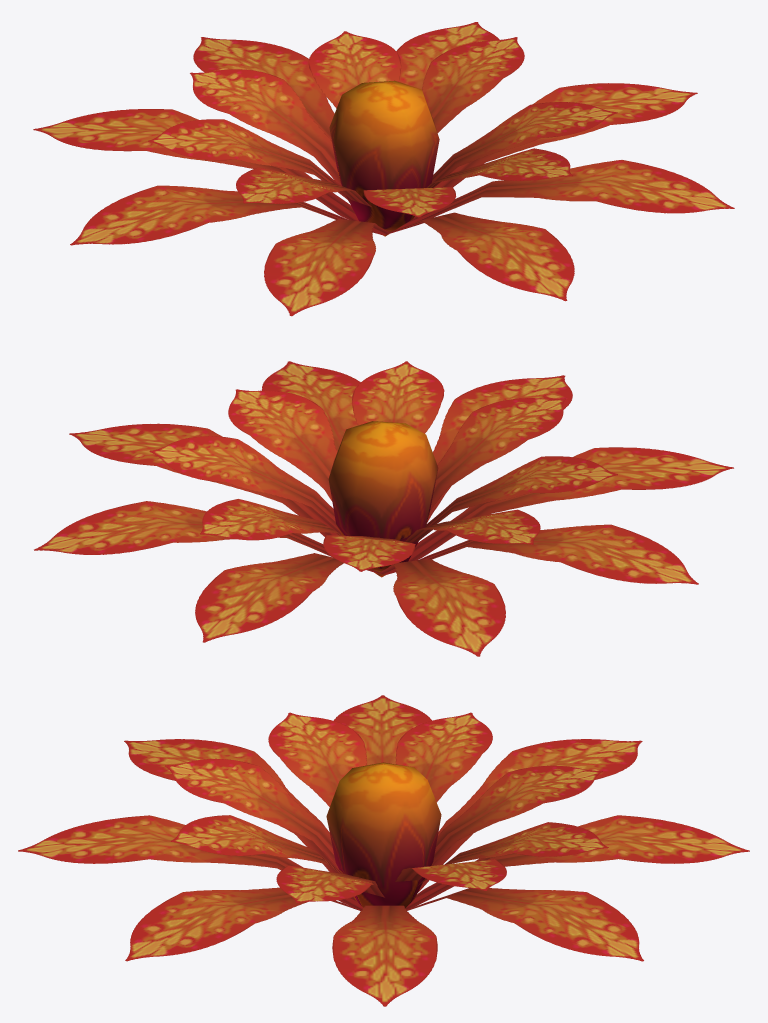
File: Red_Bush_02.FBX
3 views of the same model, one above another, from view 1: azimuth 30°, elevation 25°; view 2: azimuth 150°, elevation 25°; view 3: azimuth 270°, elevation 25° (orthographic).
Visible parts, largest first — view 1: Red_Bush_02; view 2: Red_Bush_02; view 3: Red_Bush_02.
Boxes of the visible parts, left/top/right/bottom form: Red_Bush_02: left=33, top=22, right=734, bottom=316; Red_Bush_02: left=34, top=361, right=733, bottom=656; Red_Bush_02: left=18, top=695, right=749, bottom=1006.
Bounding box in the file's own units: 131 × 30.26 × 131.
